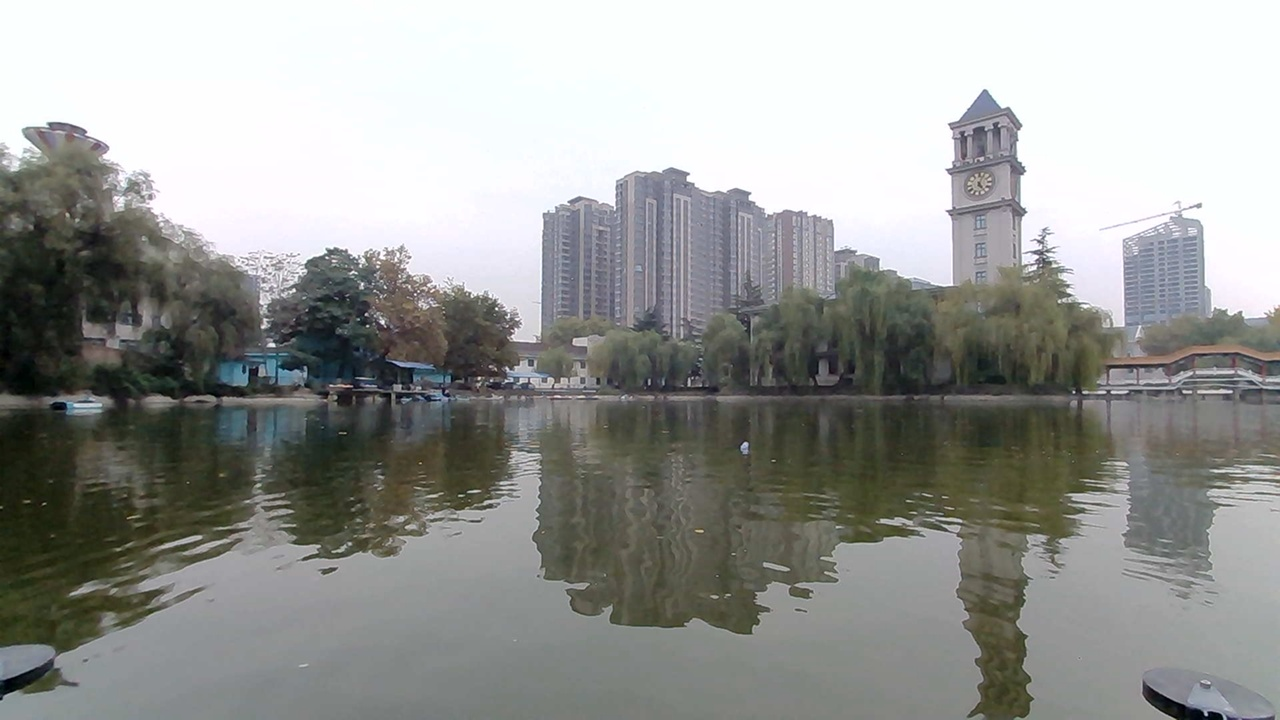bottle: (724, 426, 776, 458)
